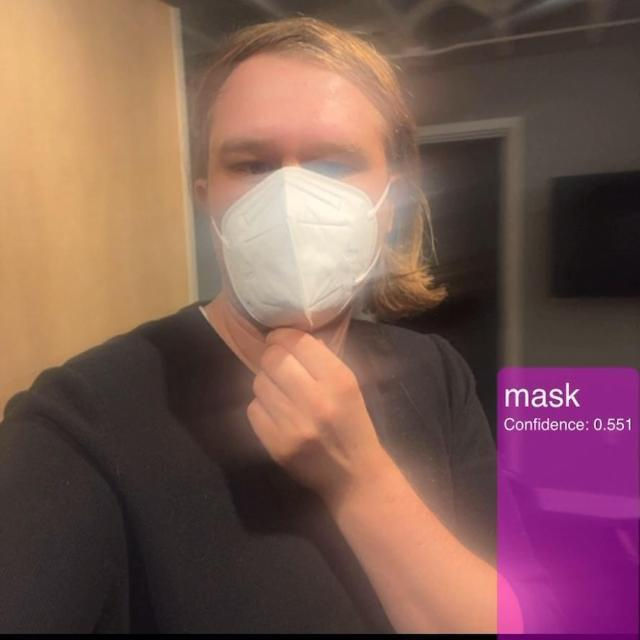no hat: (182, 18, 448, 350)
